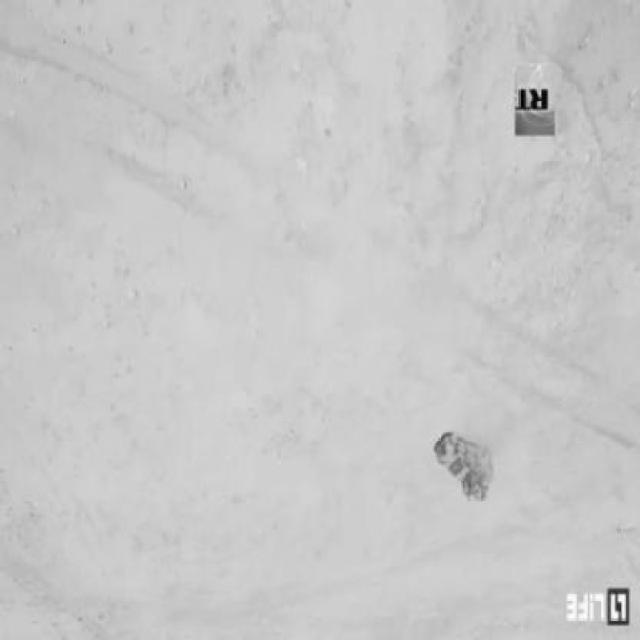Vehicle: (434, 436, 497, 508)
